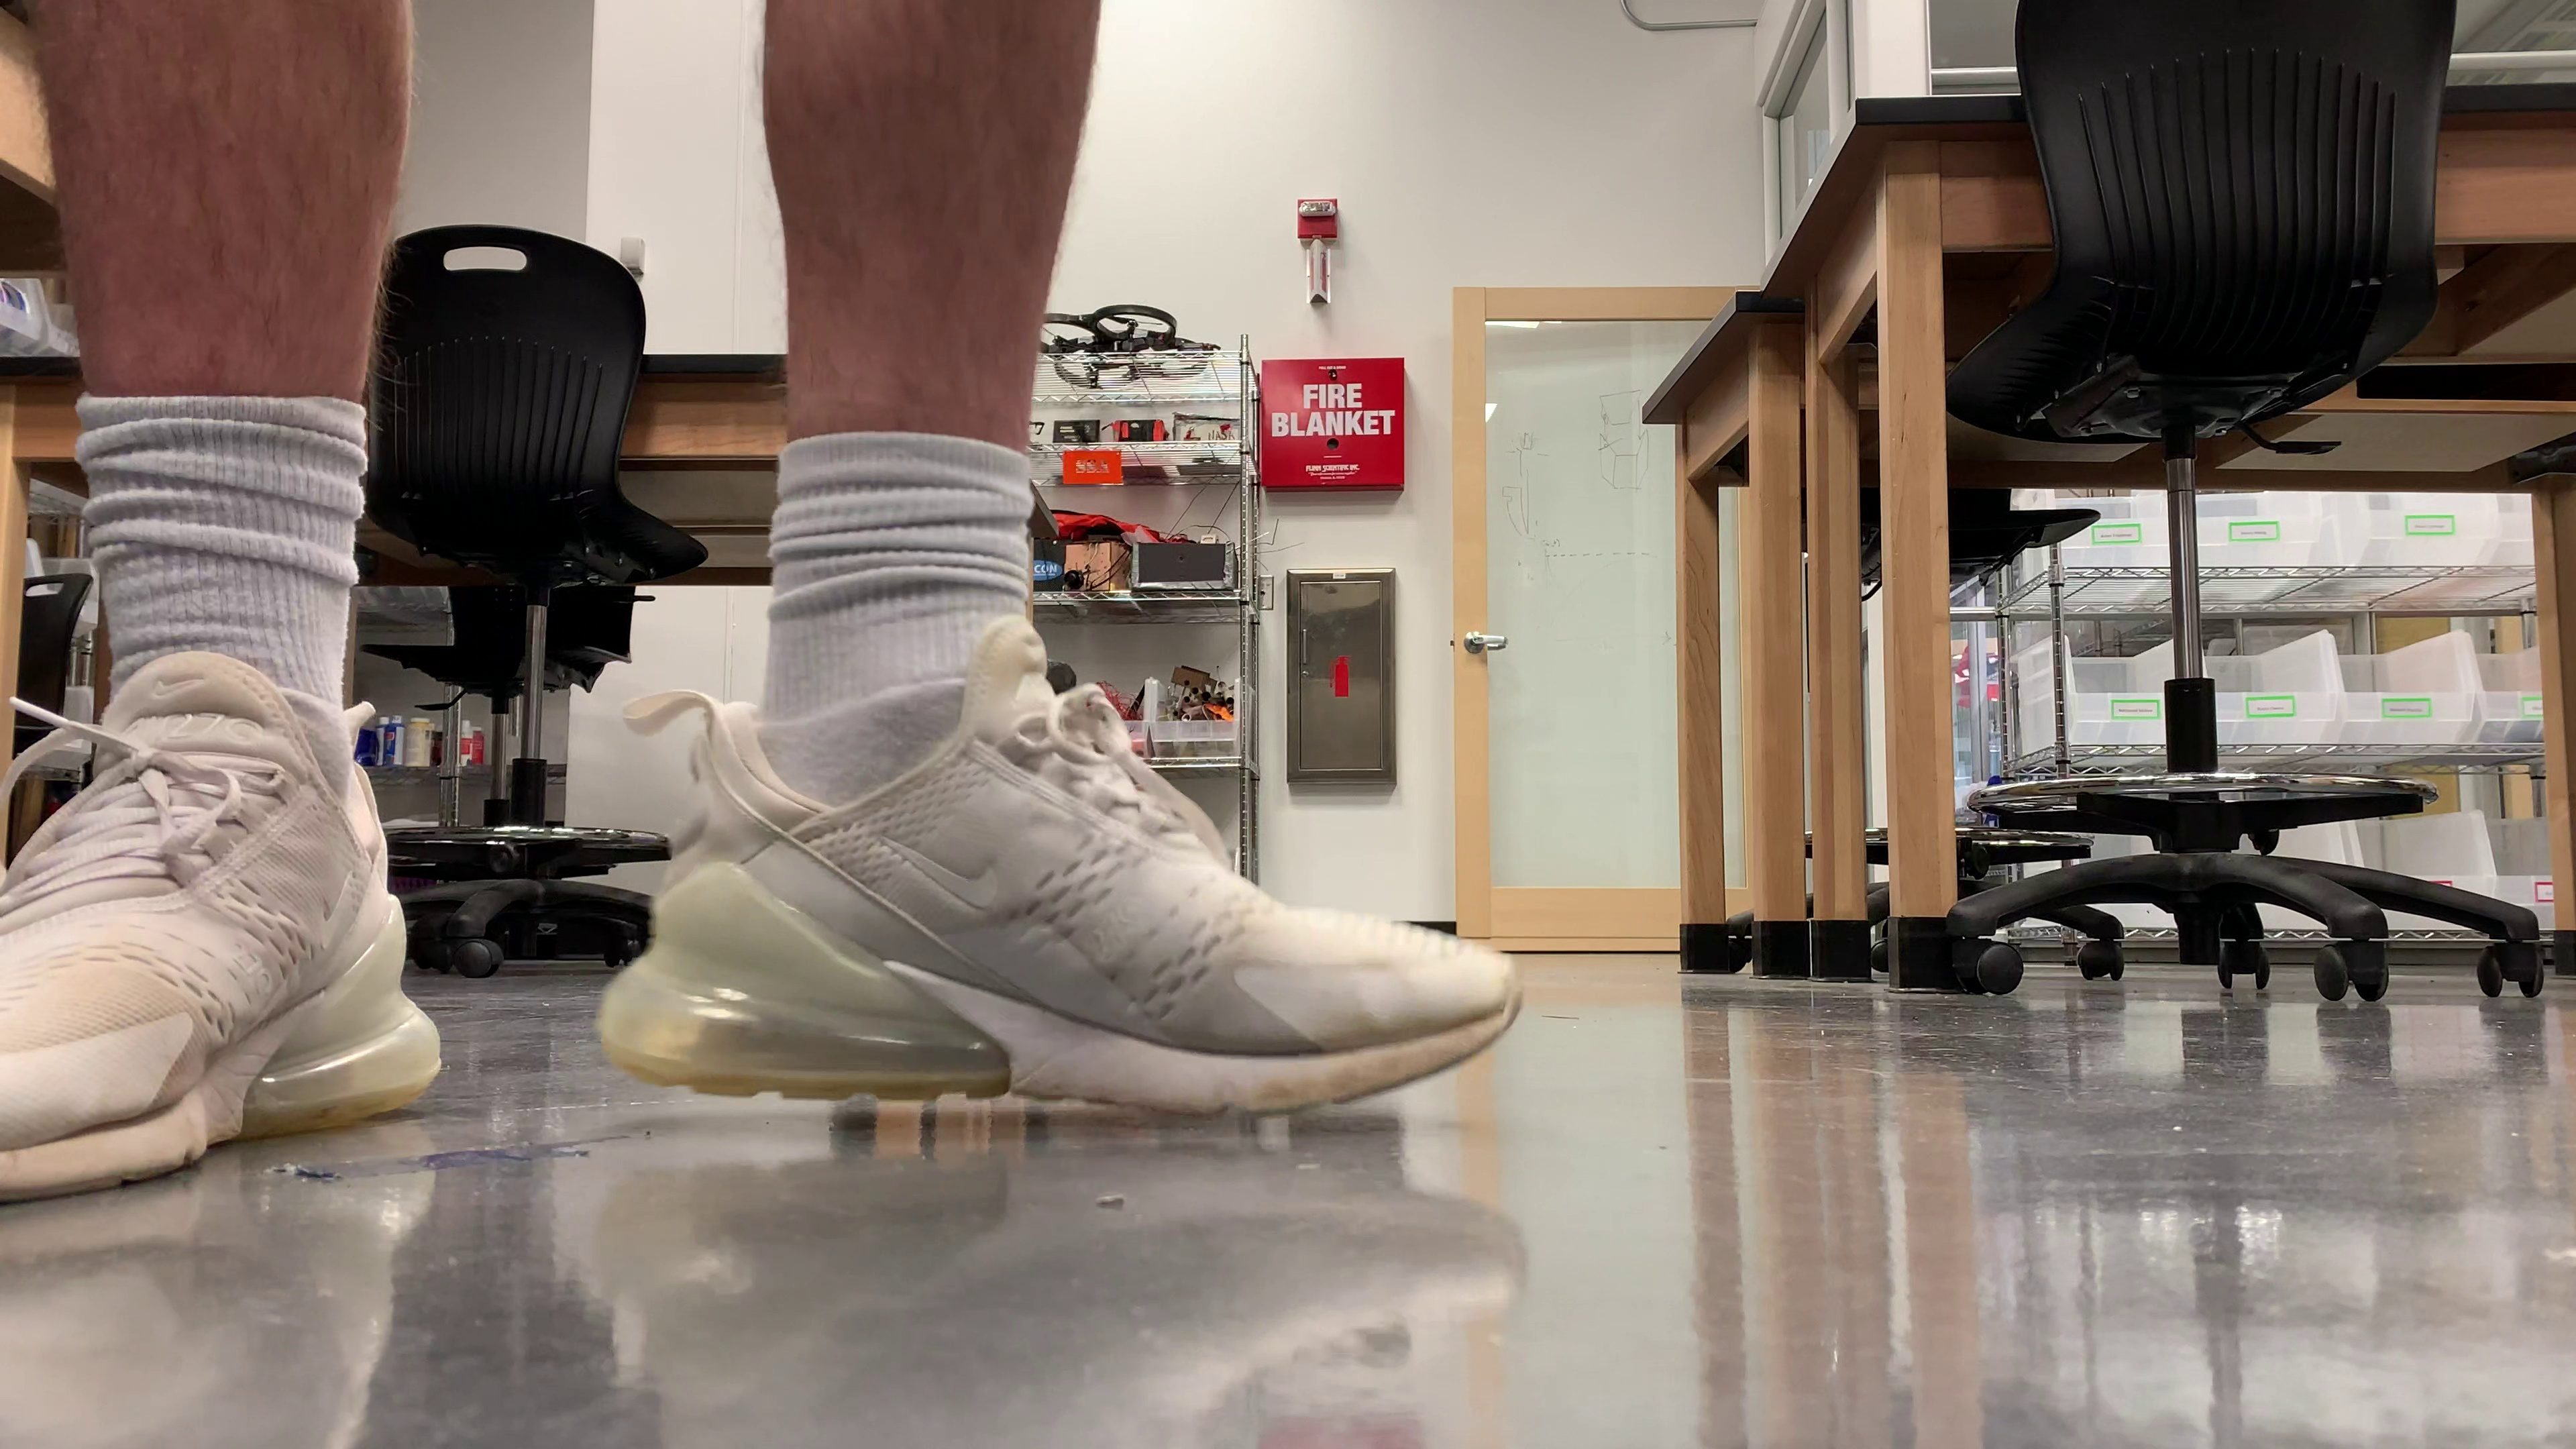shoe: (596, 616, 1522, 1111), (0, 649, 442, 1205)
